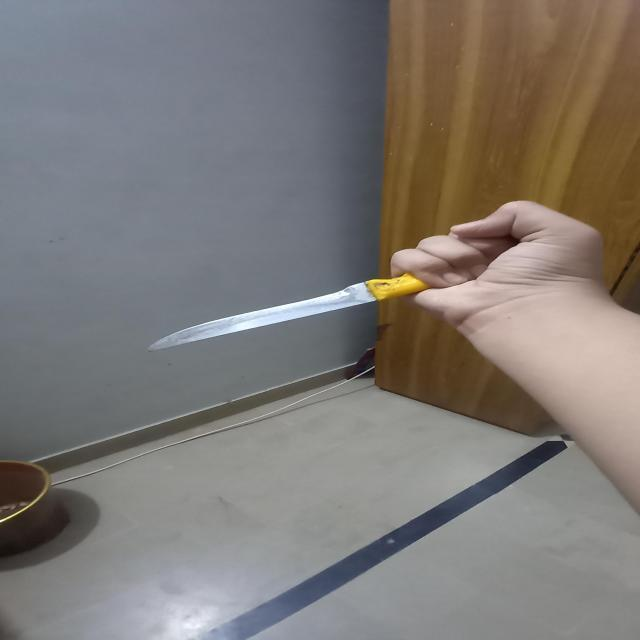faca: (150, 240, 532, 344)
